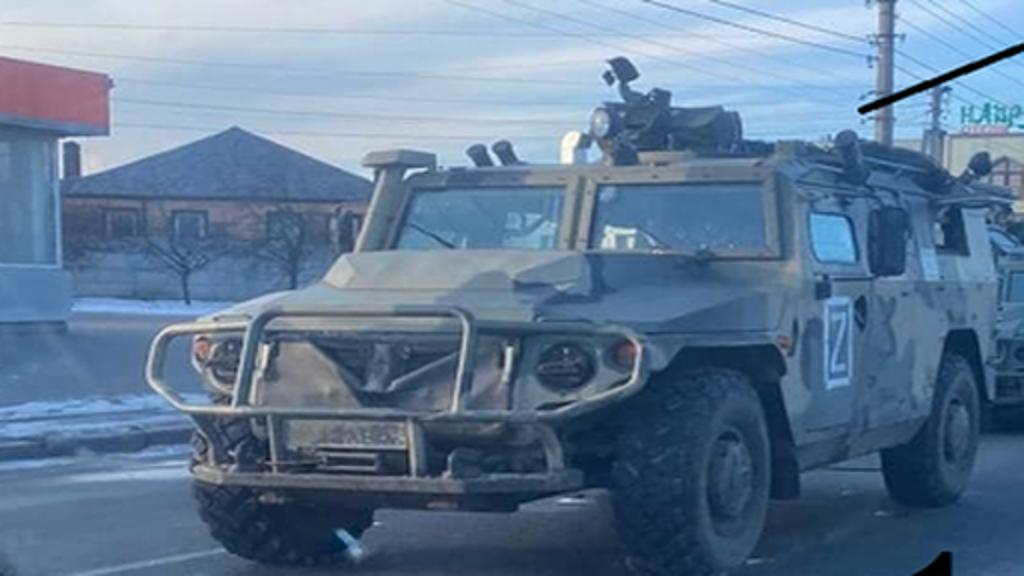CAR: (144, 70, 996, 572)
